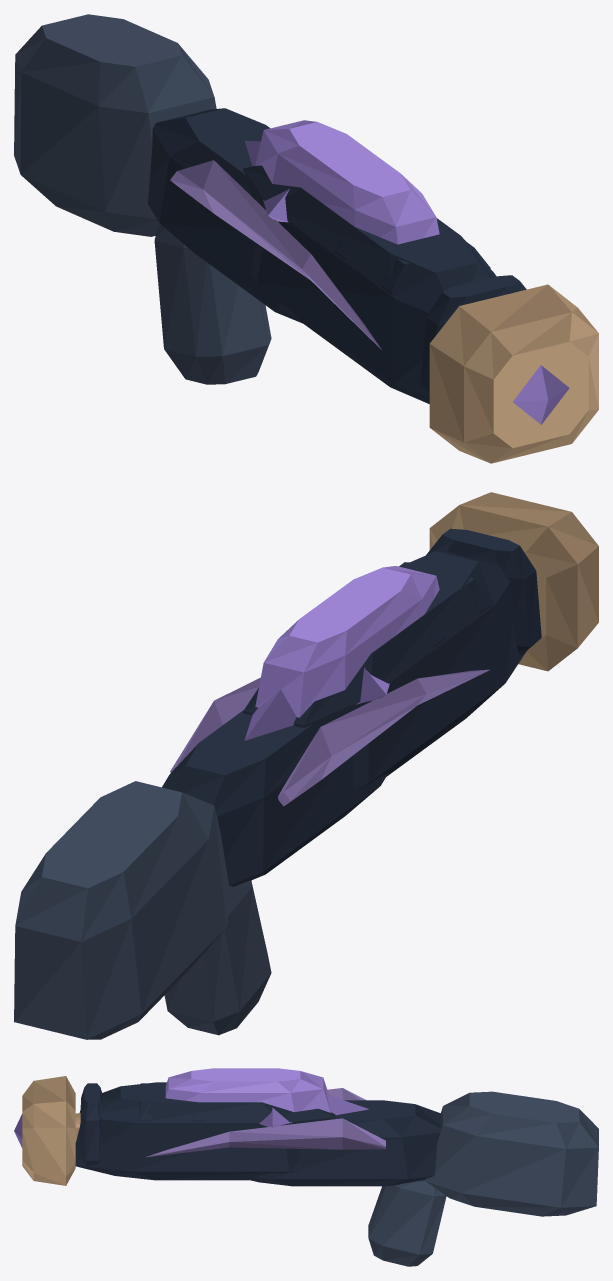
Rendered from 蚀能长铳.glb.
3 views of the same model, one above another, from view 1: azimuth 30°, elevation 25°; view 2: azimuth 150°, elevation 25°; view 3: azimuth 270°, elevation 25° (orthographic). The views are drawn at different scales.
Visible parts, largest first — view 1: 蚀能长铳; view 2: 蚀能长铳; view 3: 蚀能长铳.
Boxes of the visible parts, x1,y1,x2,y2 form: 蚀能长铳: (14,14,598,463); 蚀能长铳: (14,492,598,1039); 蚀能长铳: (14,1068,598,1266).
Size of the model in its own units: 0.3 by 0.6171 by 1.75.
